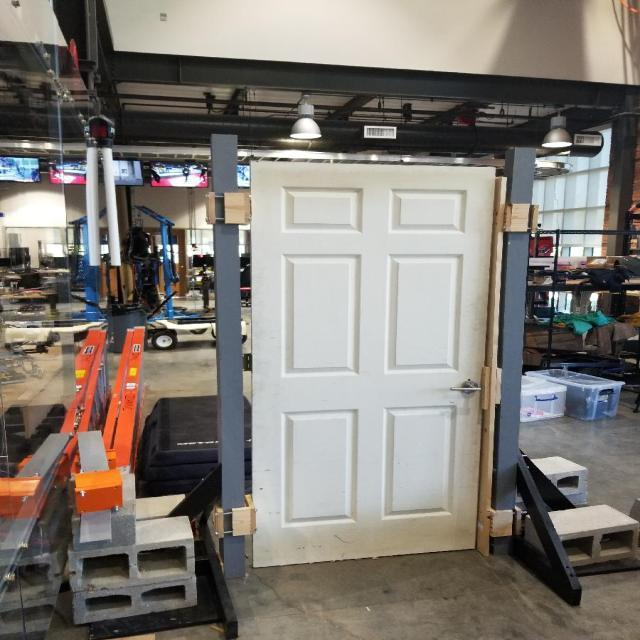door: (246, 155, 500, 570), (449, 380, 484, 395)
